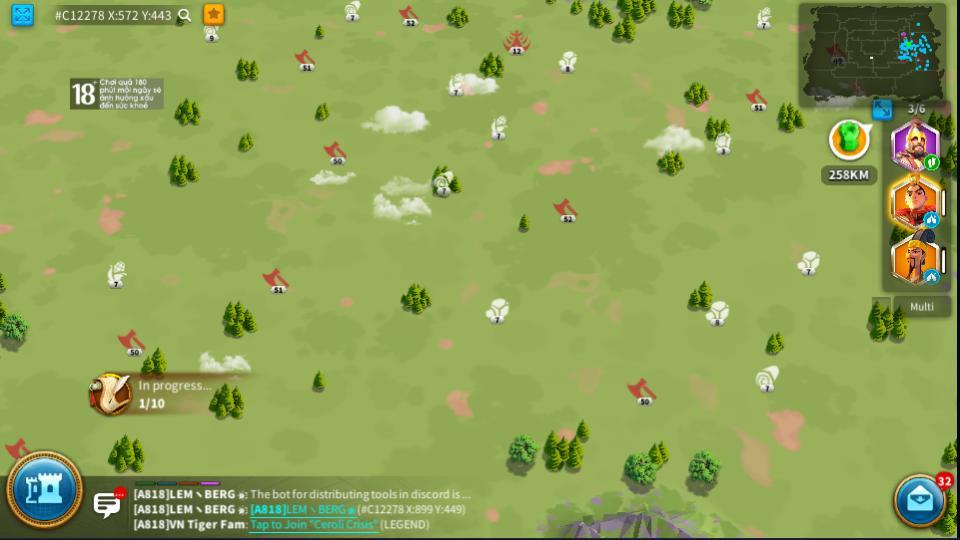march_idle: (923, 271, 939, 283), (922, 213, 938, 225)
march_marching: (923, 156, 938, 169)
